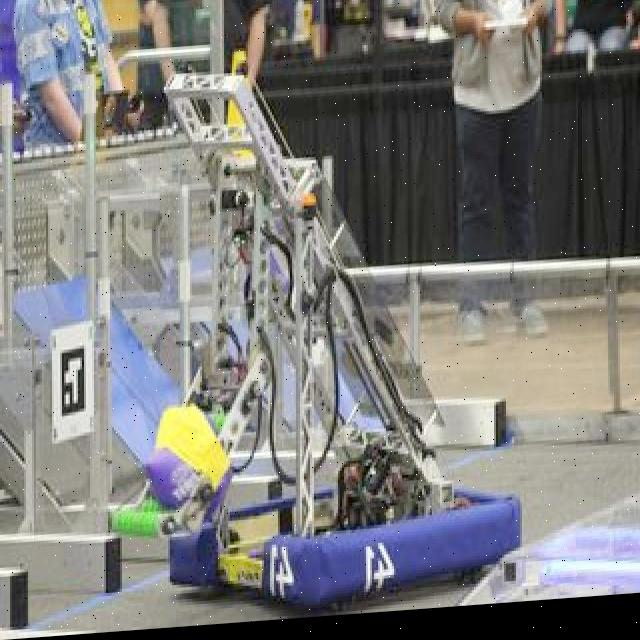robot: (108, 41, 530, 621)
